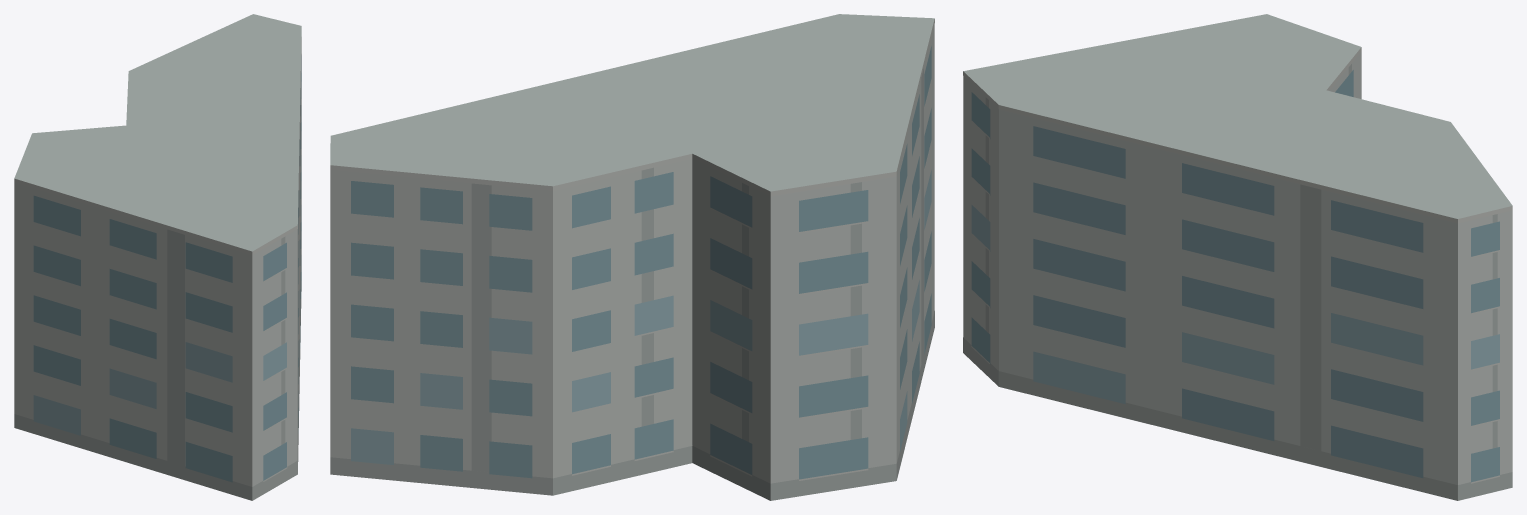
File: residential-caabe8f2-2901-4685-9206-6fee5bc167ee.glb
3 renders of one model, left to right at view 1: azimuth 30°, elevation 25°; view 2: azimuth 150°, elevation 25°; view 3: azimuth 270°, elevation 25°, orthographic. The views are drawn at different scales.
Visible parts, largest first — view 1: residential-caabe8f2-2901-4685-9206-6fee5bc167ee.tmp; view 2: residential-caabe8f2-2901-4685-9206-6fee5bc167ee.tmp; view 3: residential-caabe8f2-2901-4685-9206-6fee5bc167ee.tmp.
Boxes of the visible parts, bbox=[...] form: residential-caabe8f2-2901-4685-9206-6fee5bc167ee.tmp: bbox=[14, 14, 301, 500]; residential-caabe8f2-2901-4685-9206-6fee5bc167ee.tmp: bbox=[330, 14, 934, 500]; residential-caabe8f2-2901-4685-9206-6fee5bc167ee.tmp: bbox=[963, 14, 1512, 500].
Size of the model in its own units: 23.81 by 15.25 by 26.96.
